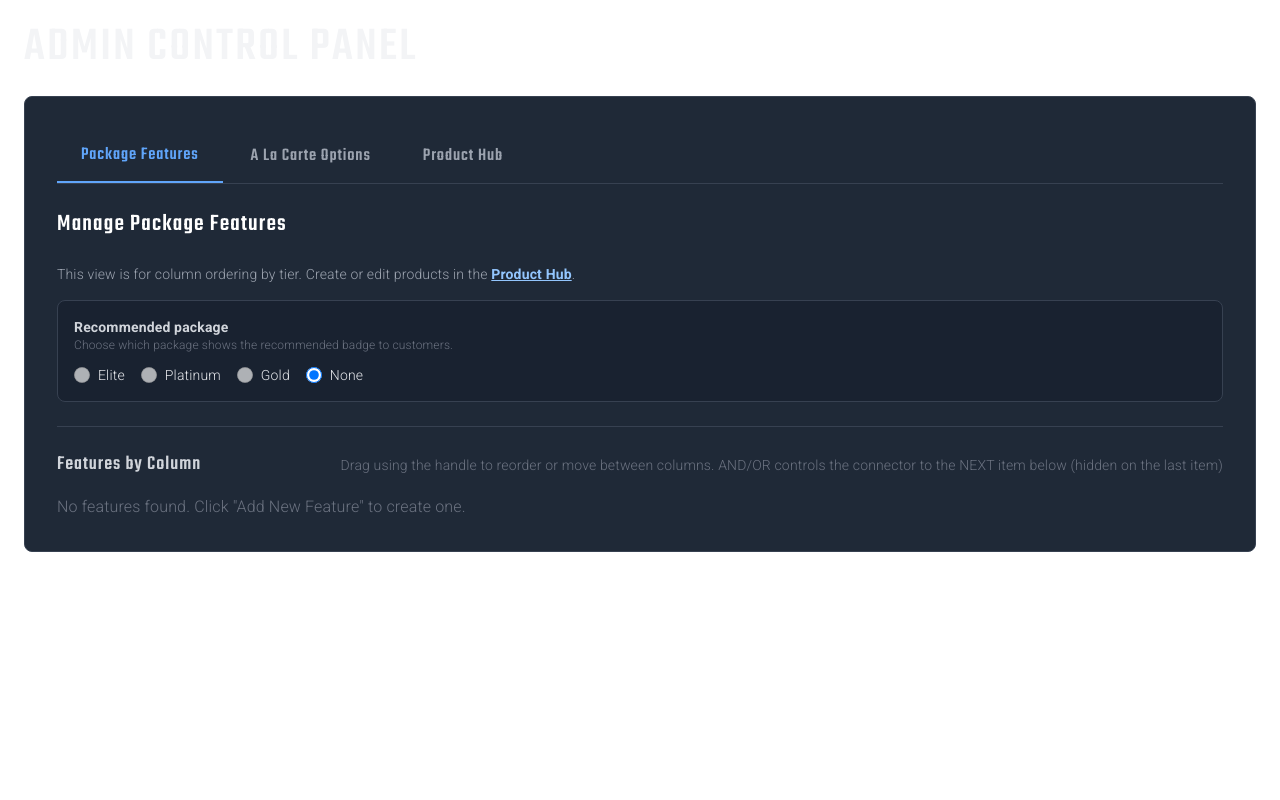
Test: AdminPanel › Tab Navigation and A La Carte Integration › should switch to A La Carte tab when clicked and show correct heading
expect the heading "Manage Package Features" is shown: met, box [57,208,287,240]
Click A La Carte Options tab
Click the button "A La Carte Options" at (311, 156), box [227,129,395,183]
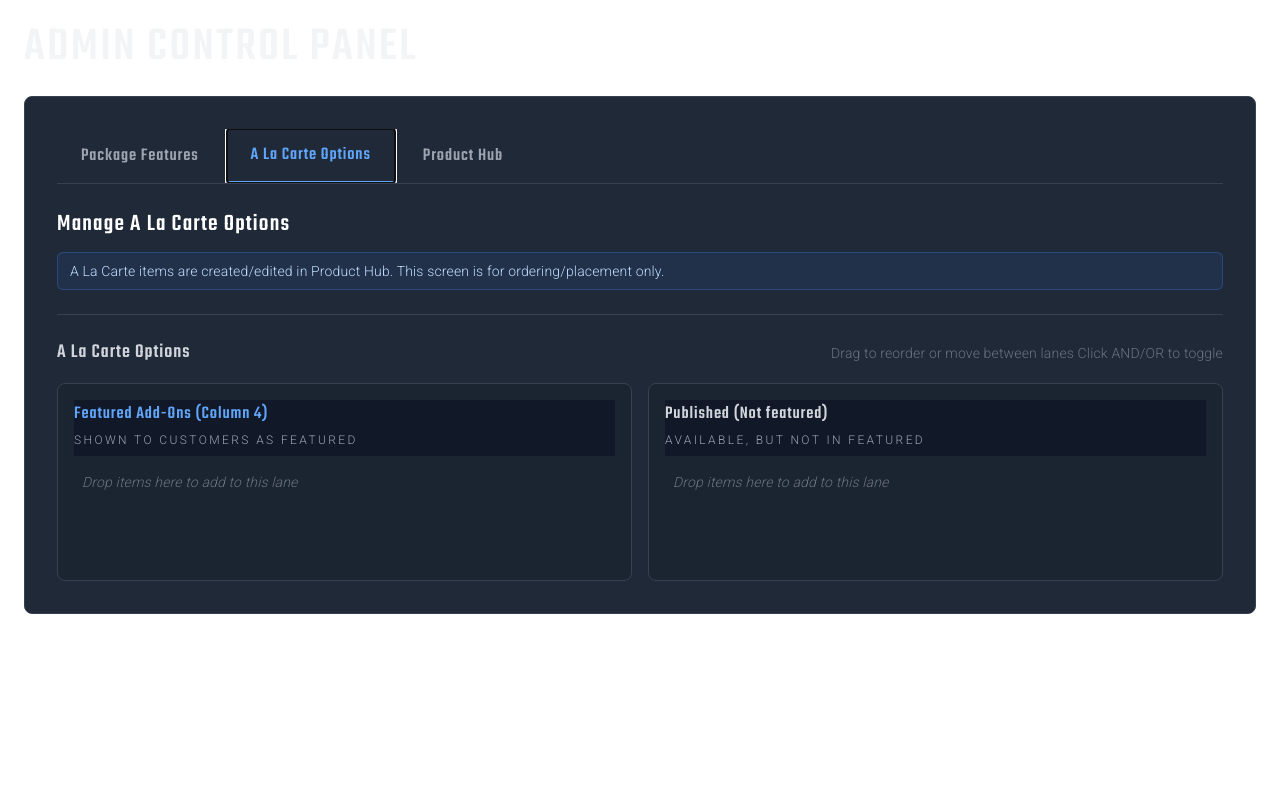
expect the heading "Manage A La Carte Options" is shown: met, box [57,208,290,240]
expect the heading "Manage Package Features" is gone: met
